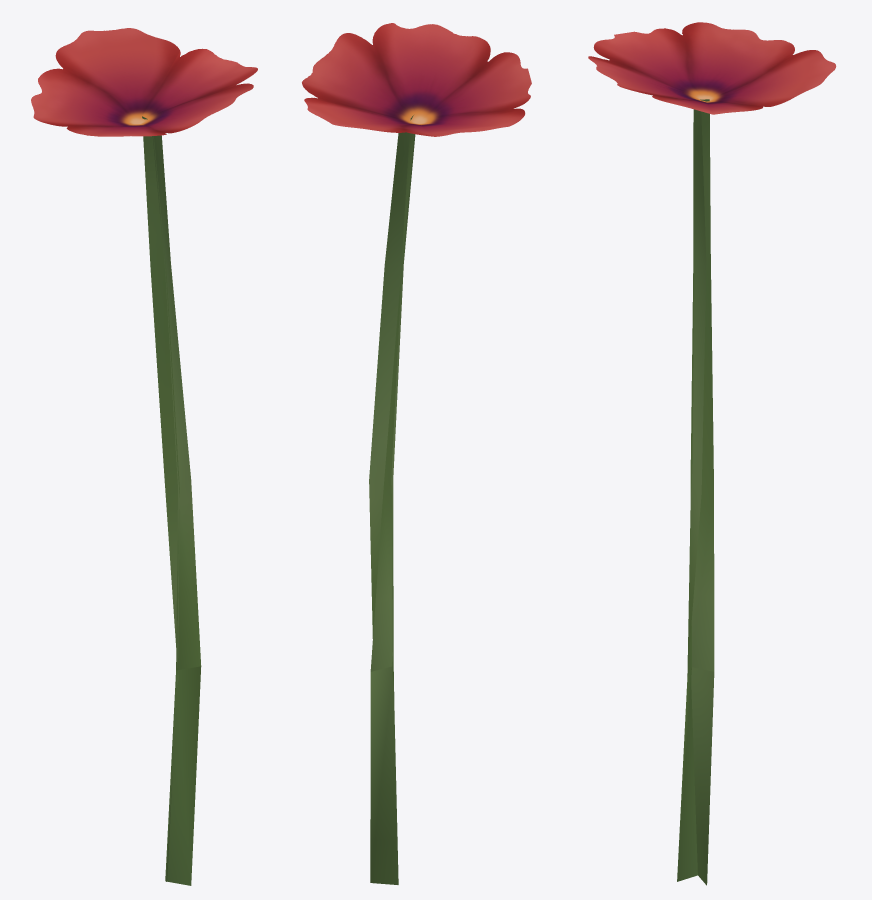
Rendered from flower.fbx.
3 renders of one model, left to right at view 1: azimuth 30°, elevation 25°; view 2: azimuth 150°, elevation 25°; view 3: azimuth 270°, elevation 25°, orthographic.
Parts seen in each view (by area): view 1: SfW; view 2: SfW; view 3: SfW.
Boxes of the visible parts, x1,y1,x2,y2 form: SfW: (31,28,257,885); SfW: (302,23,531,884); SfW: (588,22,836,885).
Size of the model in its own units: 22.64 by 75.81 by 24.91.
